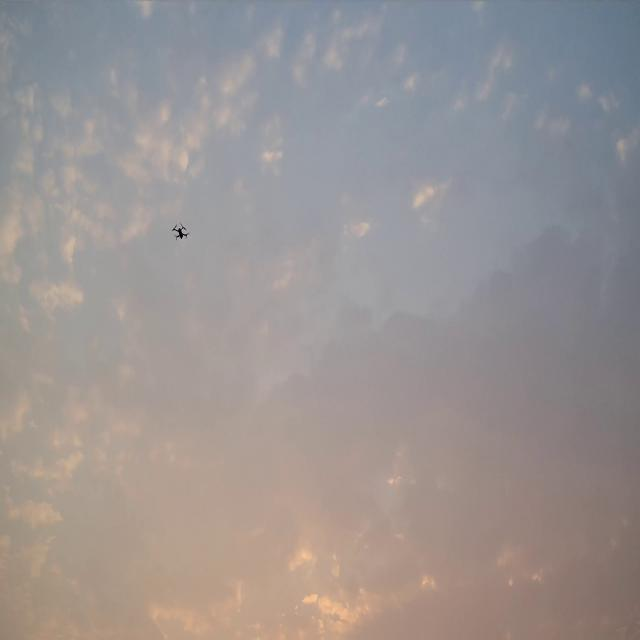UAV: (171, 222, 190, 240)
